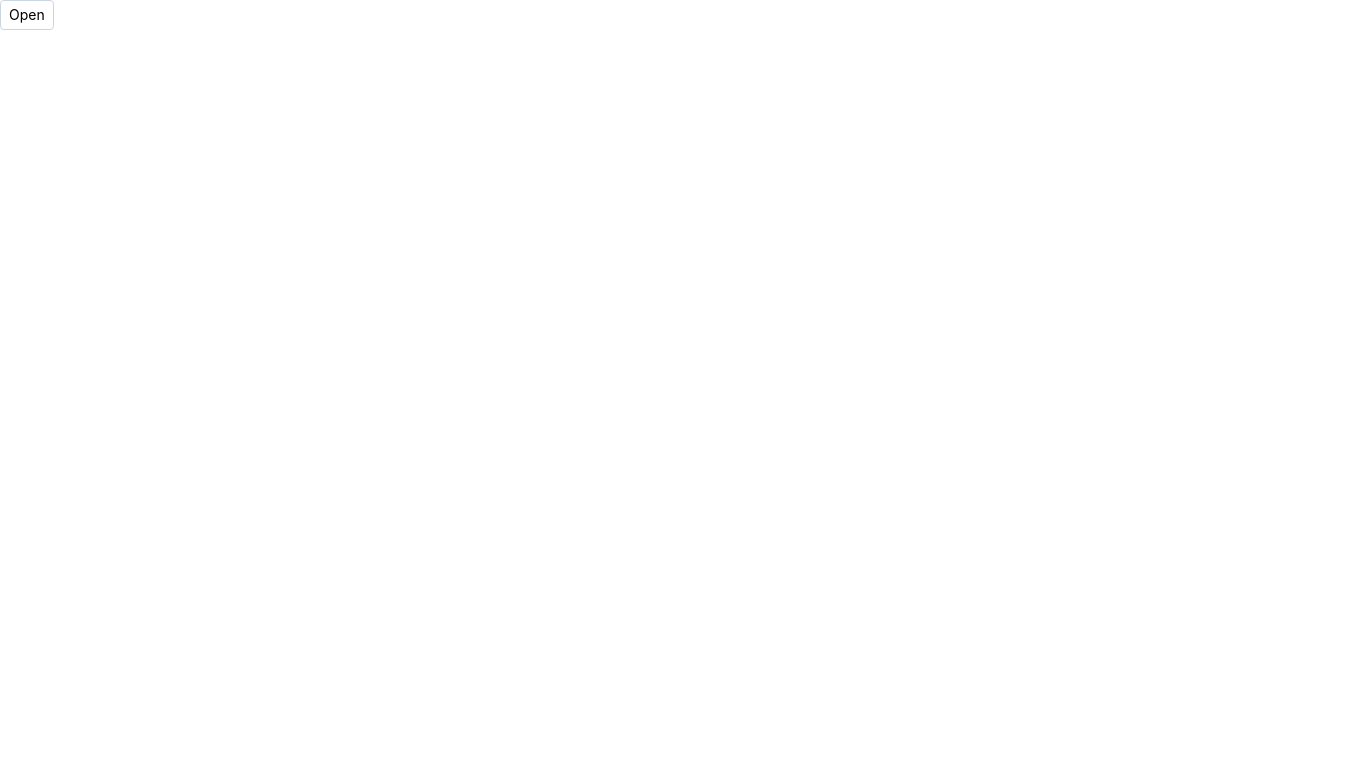
it: primitives › Popover opens on click and closes on Escape
Click the button "Open".
click(27, 15)  # box x1=0 y1=0 x2=54 y2=30
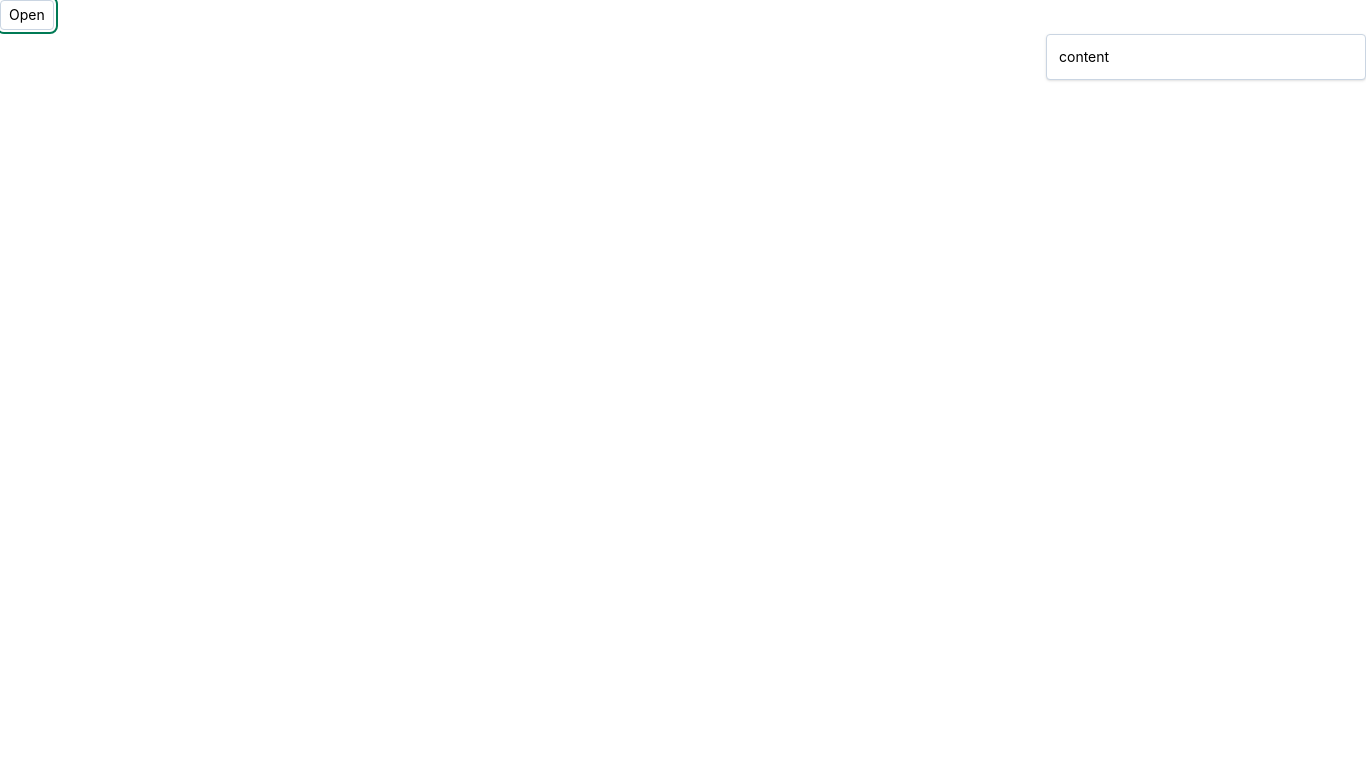
expect the dialog named "Menu" is shown: met, box x1=1046 y1=34 x2=1365 y2=80
Press Escape
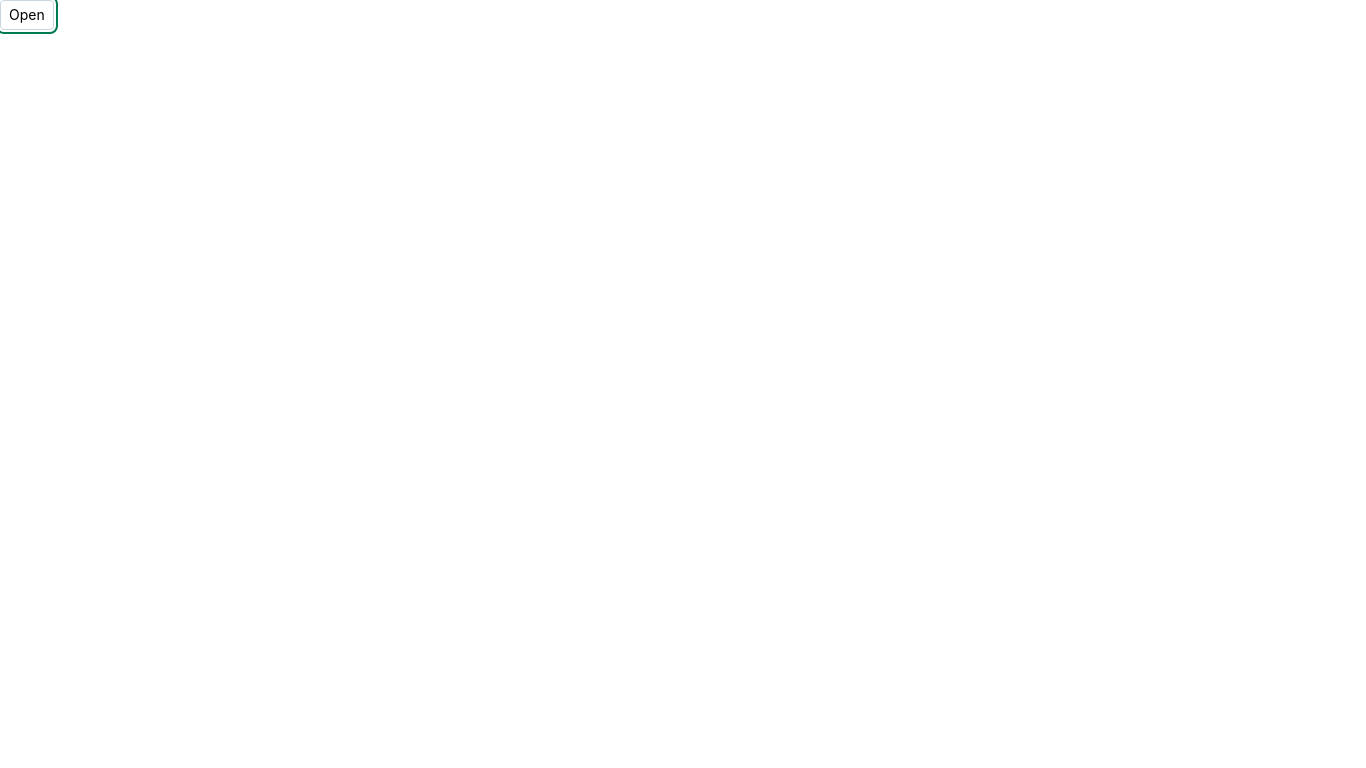
expect the dialog is gone: met
